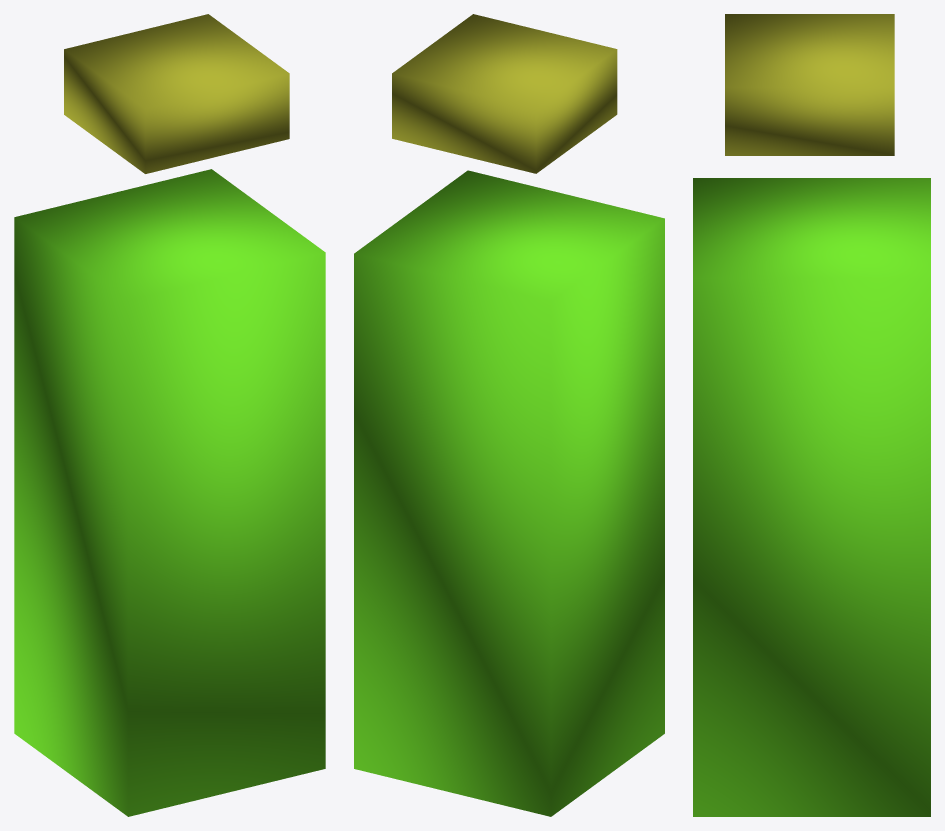
Rendered from lift-bl.glb.
3 renders of one model, left to right at view 1: azimuth 30°, elevation 25°; view 2: azimuth 150°, elevation 25°; view 3: azimuth 270°, elevation 25°, orthographic. The views are drawn at different scales.
Parts seen in each view (by area): view 1: Box001, Box002; view 2: Box001, Box002; view 3: Box001, Box002.
Boxes of the visible parts, box(x1,y1,x2,y2) form: Box001: box(14, 169, 325, 816); Box002: box(64, 14, 289, 173); Box001: box(354, 170, 664, 816); Box002: box(392, 14, 617, 173); Box001: box(693, 178, 930, 816); Box002: box(725, 14, 894, 155).
Bounding box in the file's own units: 20.42 × 68.14 × 20.42.
